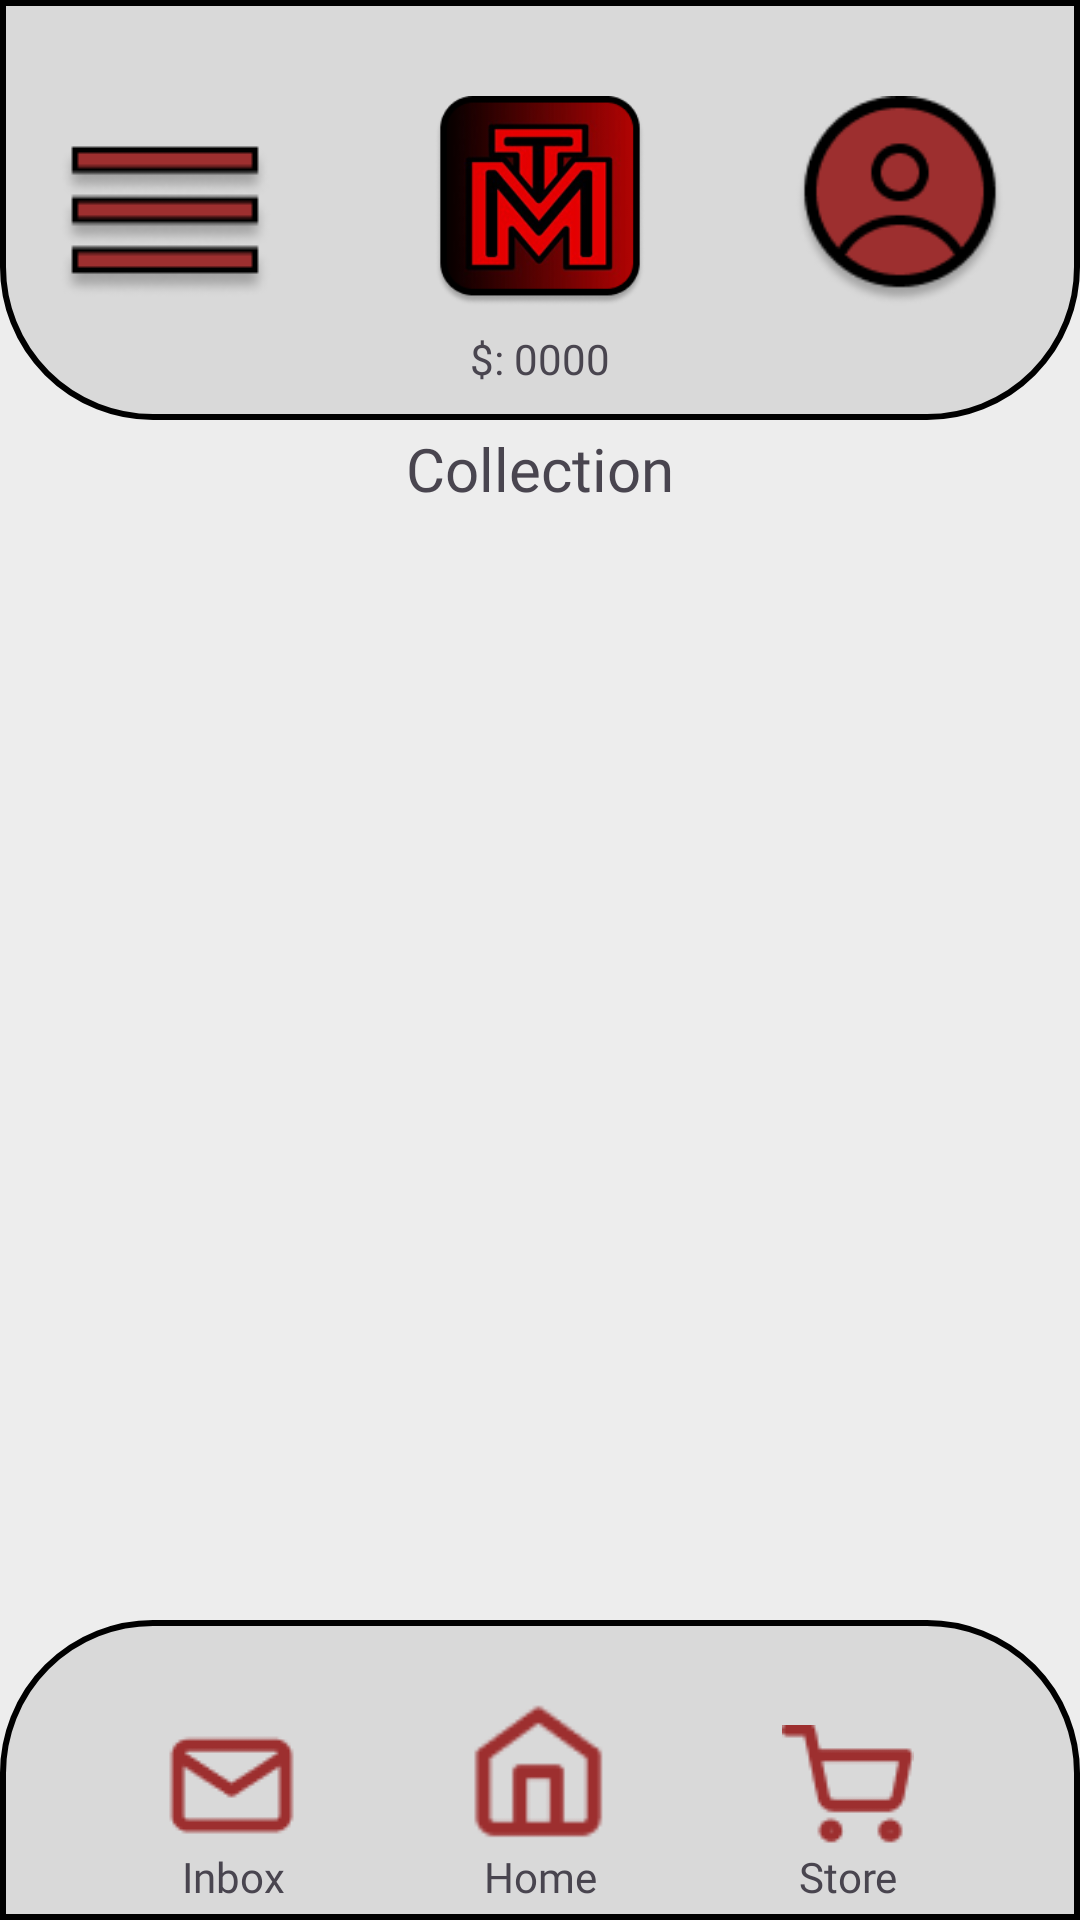

Where to tap for icons on this 1080x1920 app screen, as point (x, y):
hamburger menu: point (165, 216)
mail: point (232, 1785)
shopping cart: point (848, 1784)
